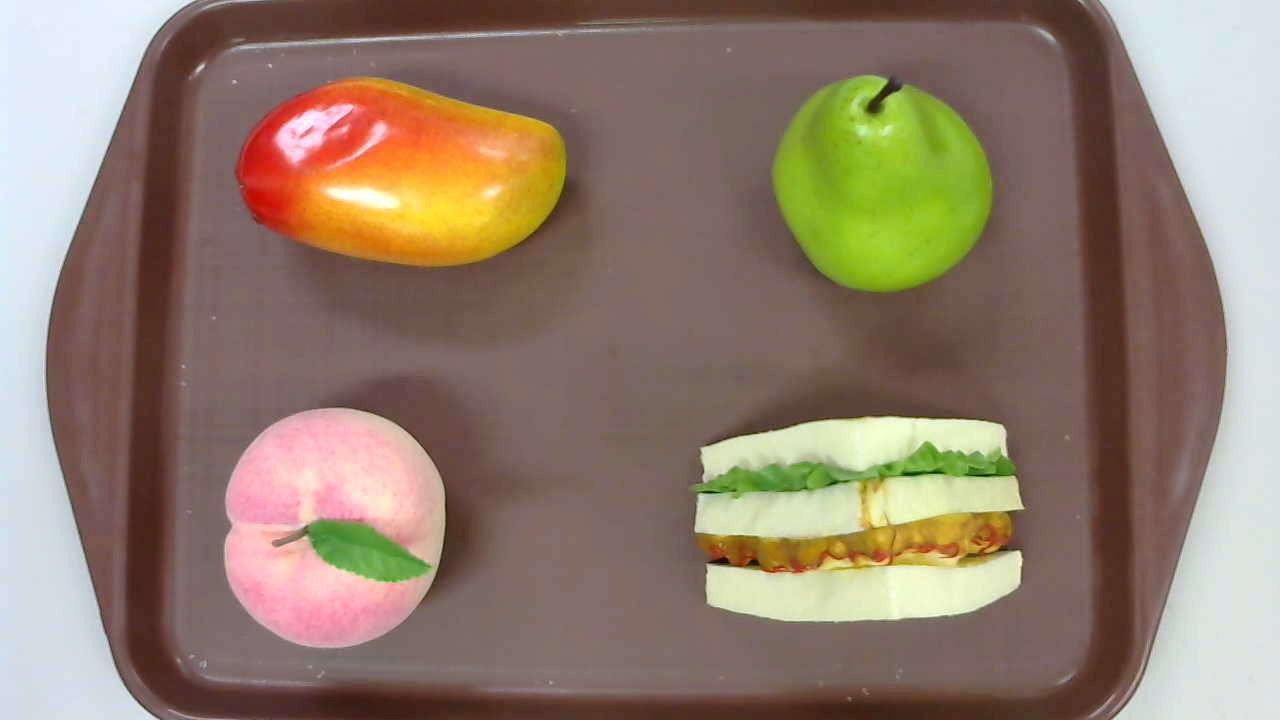green pear: (771, 72, 993, 293)
peaches: (221, 407, 447, 649)
red mango: (235, 76, 567, 269)
sandwich: (686, 416, 1025, 622)
